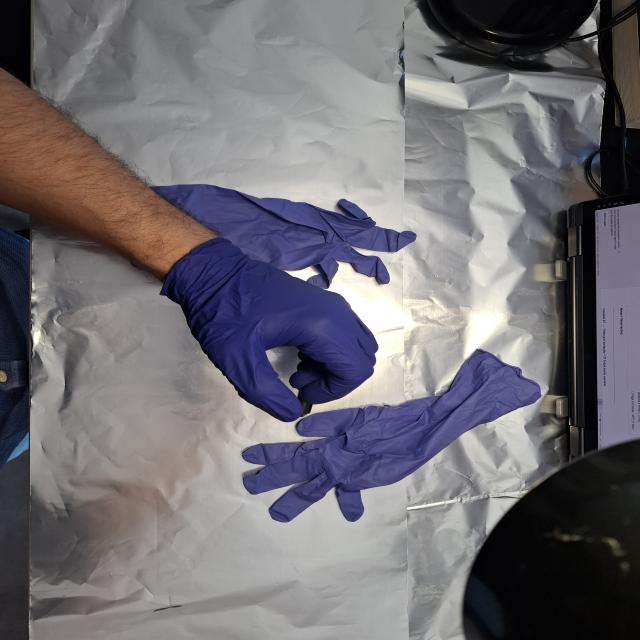glove_on: (163, 239, 381, 426)
